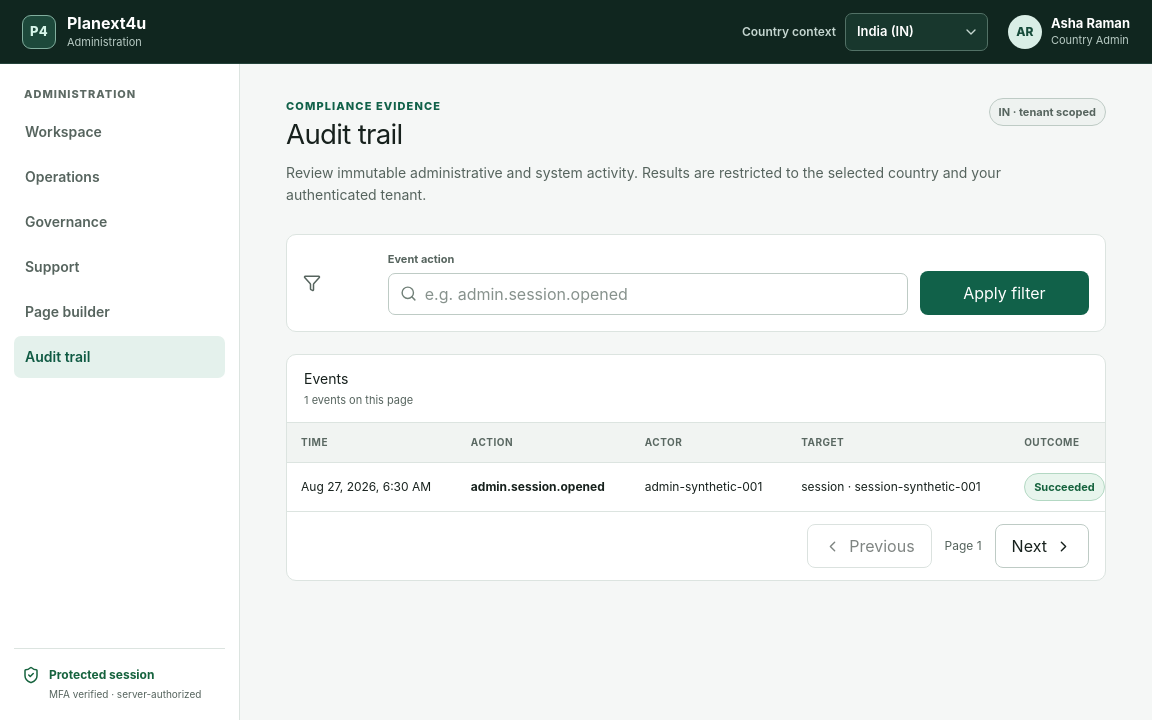
Scenario: administrator application › uses the opaque server cursor for audit pagination
Expected: the text "admin.session.opened" is shown, [471,479,605,494]
Click the button "Next": {"x": 1042, "y": 546} [995,524,1089,568]
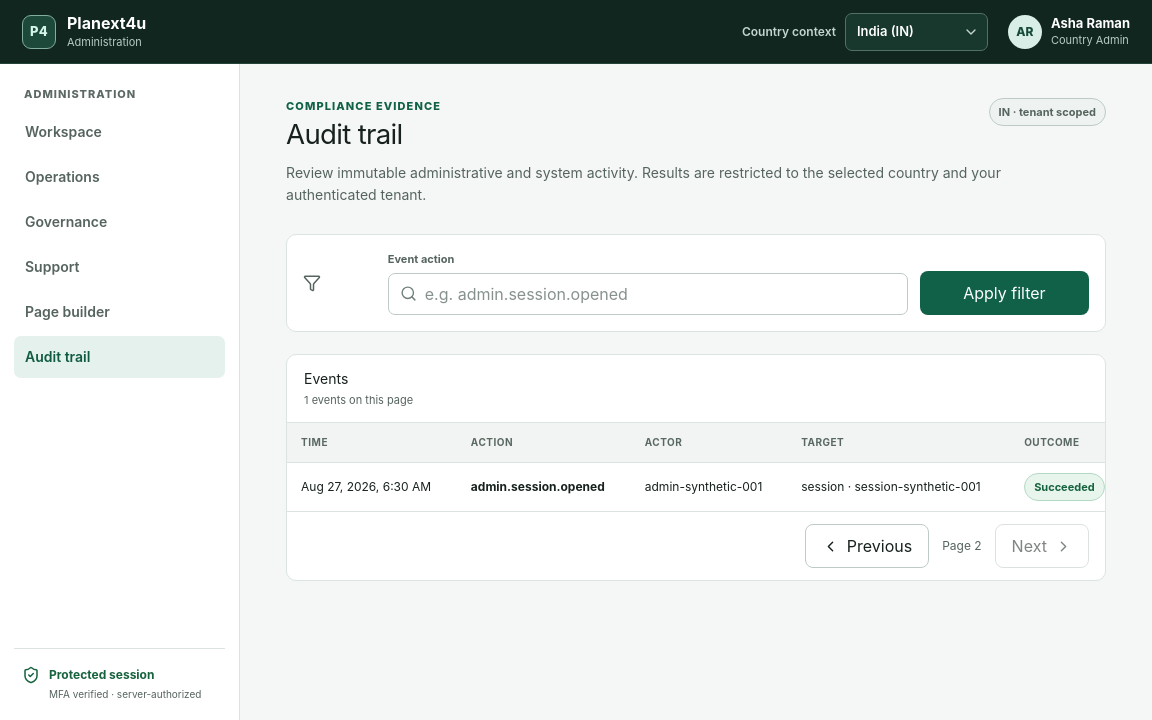
Expected: the text "Page 2" is shown, [942,537,982,555]
Expected: the button "Previous" is enabled
Click the button "Previous": {"x": 867, "y": 546} [805,524,929,568]
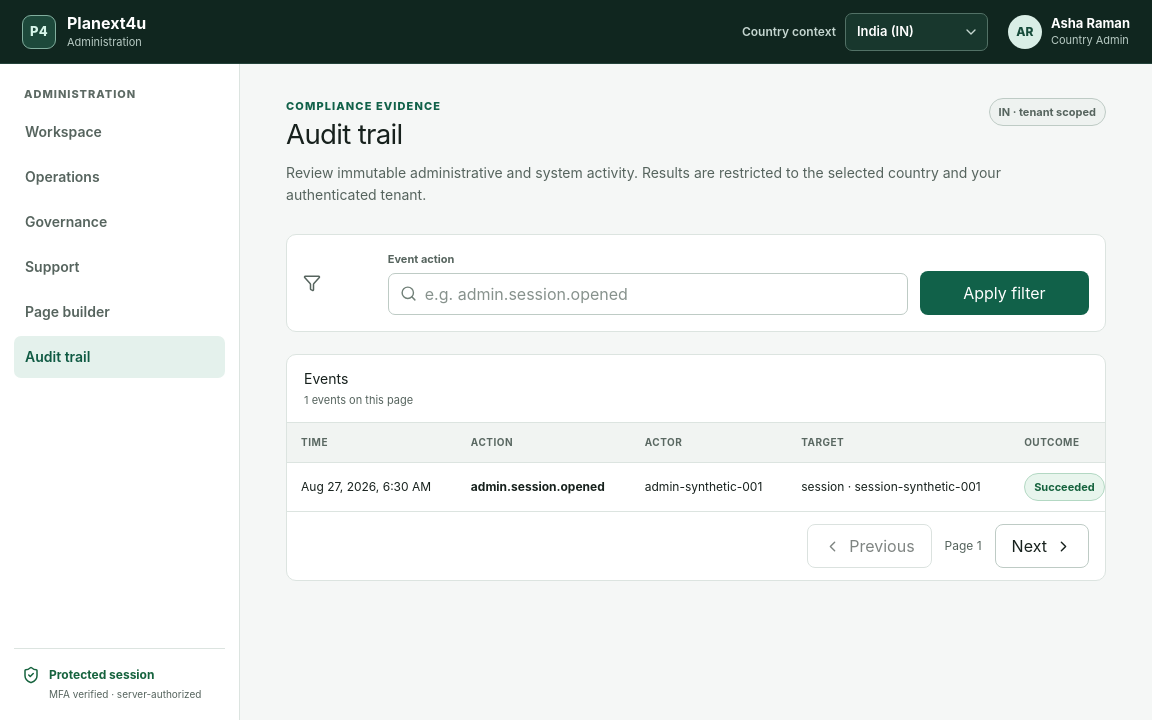
Expected: the text "Page 1" is shown, [945,537,982,555]
